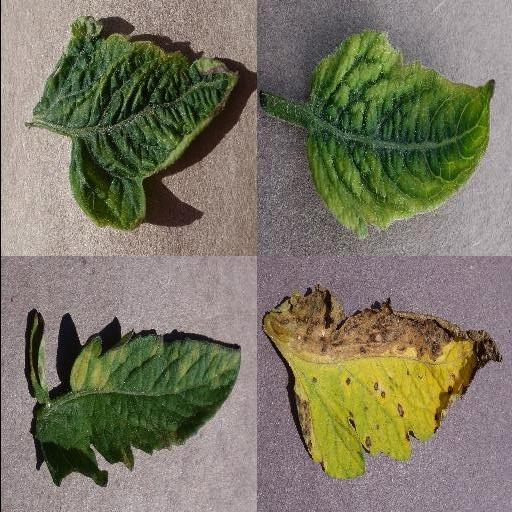Leaf Mold: (31, 331, 241, 486)
Septoria: (259, 290, 503, 478)
Yellow Leaf Curl Virus: (34, 16, 240, 232), (307, 28, 495, 240)
